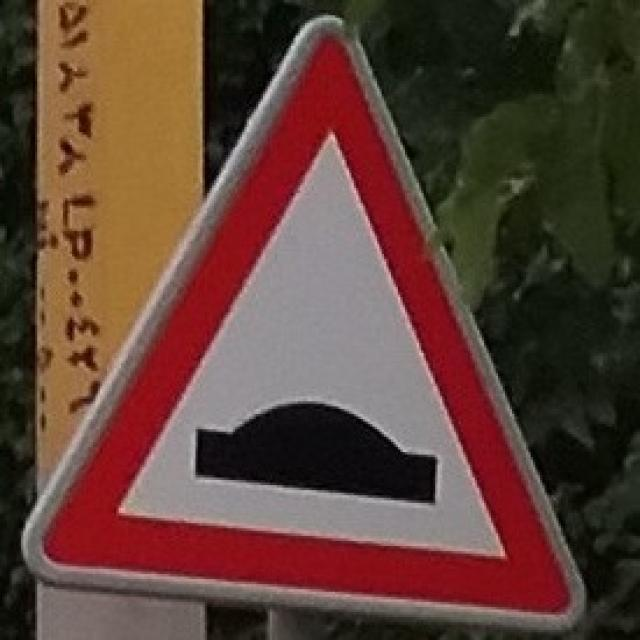HUMP_OR_ROUGH_ROAD: (26, 20, 588, 622)
